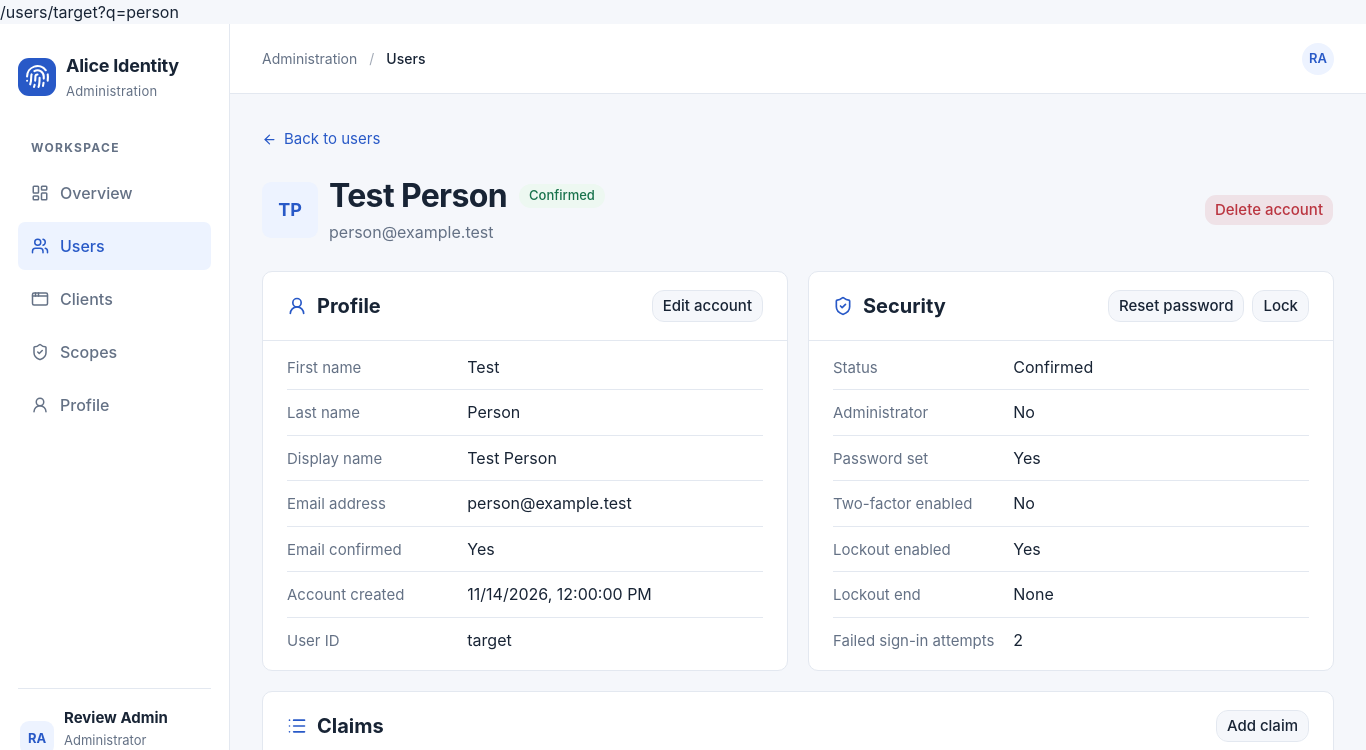
Test: administrative account operations › requires exact deletion confirmation and returns to the preserved directory query
Click the button "Delete account".
click(1269, 210)  # box [1204,194,1334,226]
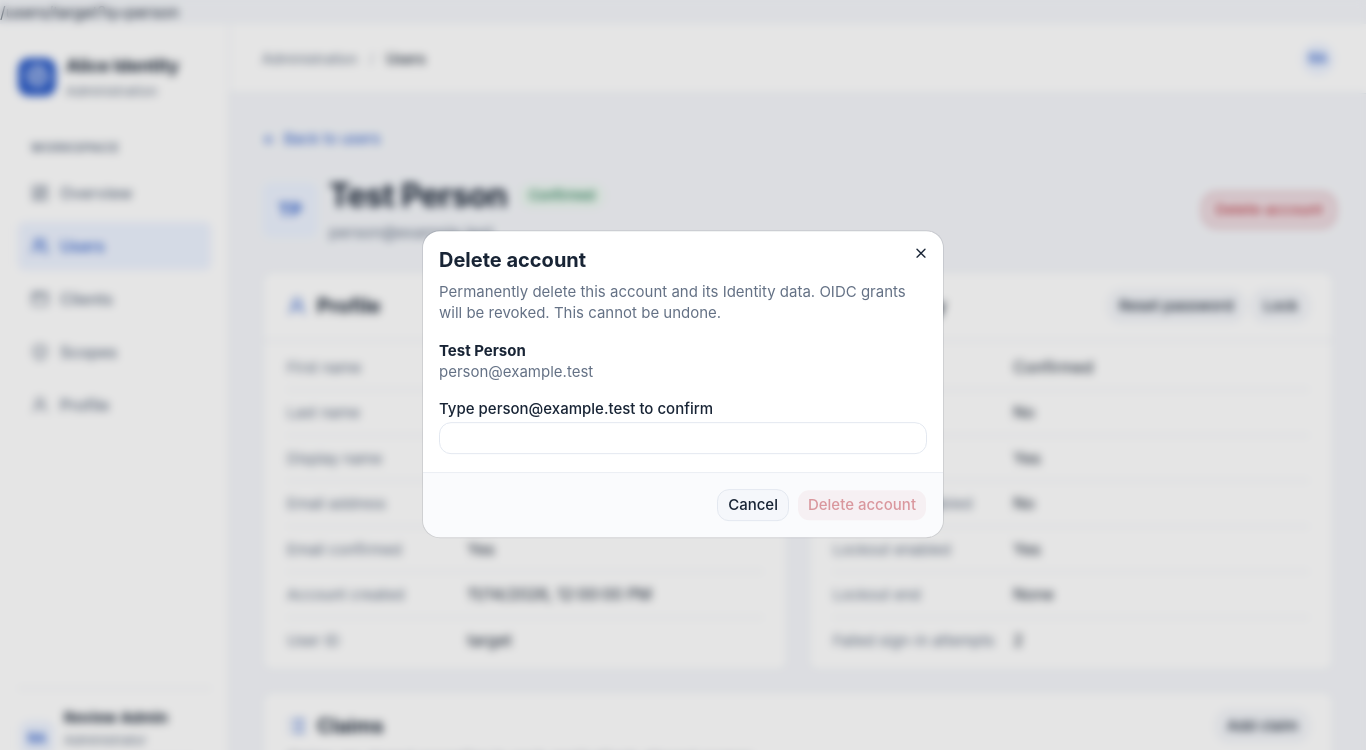
Expected: the button "Delete account" is disabled, [797,489,927,521]
Type "wrong" into the field.
click(683, 438); type("wrong")  # box [439,422,927,454]
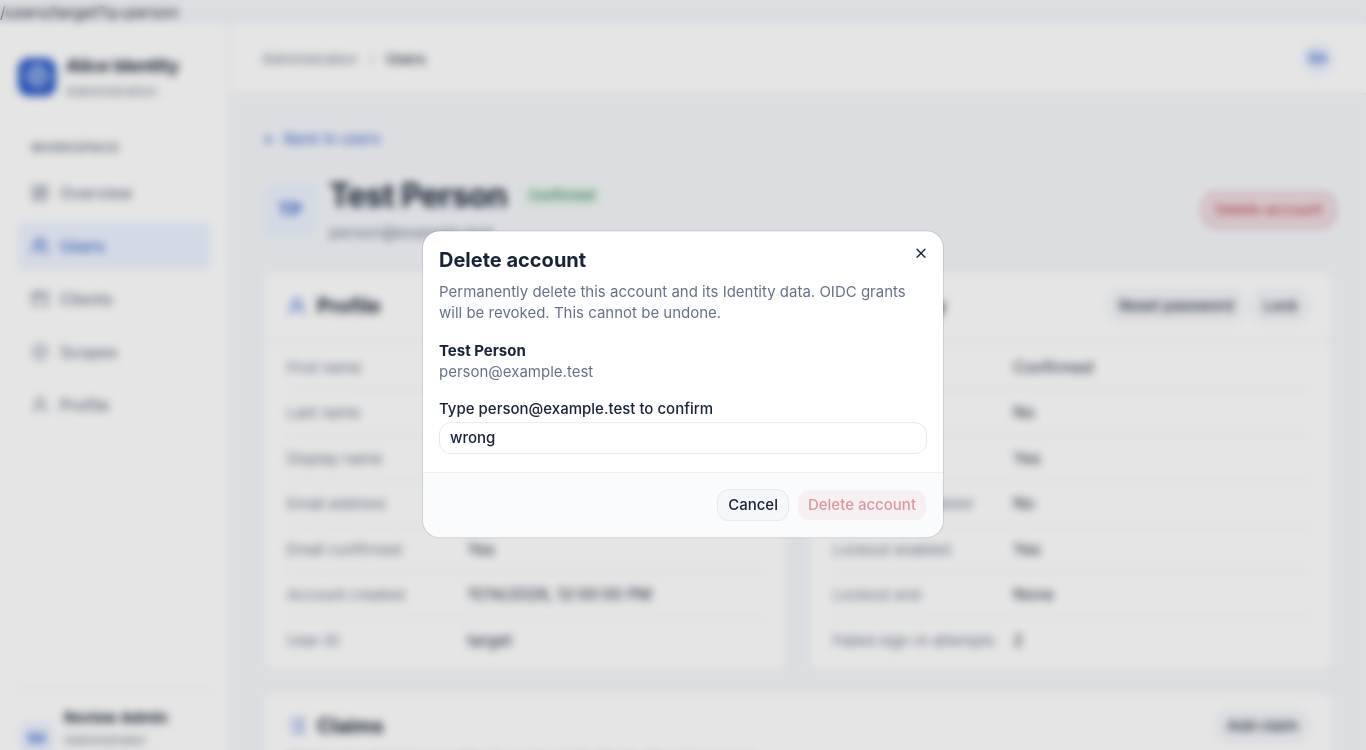
Expected: the button "Delete account" is disabled, [797,489,927,521]
Replace the text in the field with "person@example.test" at coordinates (683, 438), box [439,422,927,454]
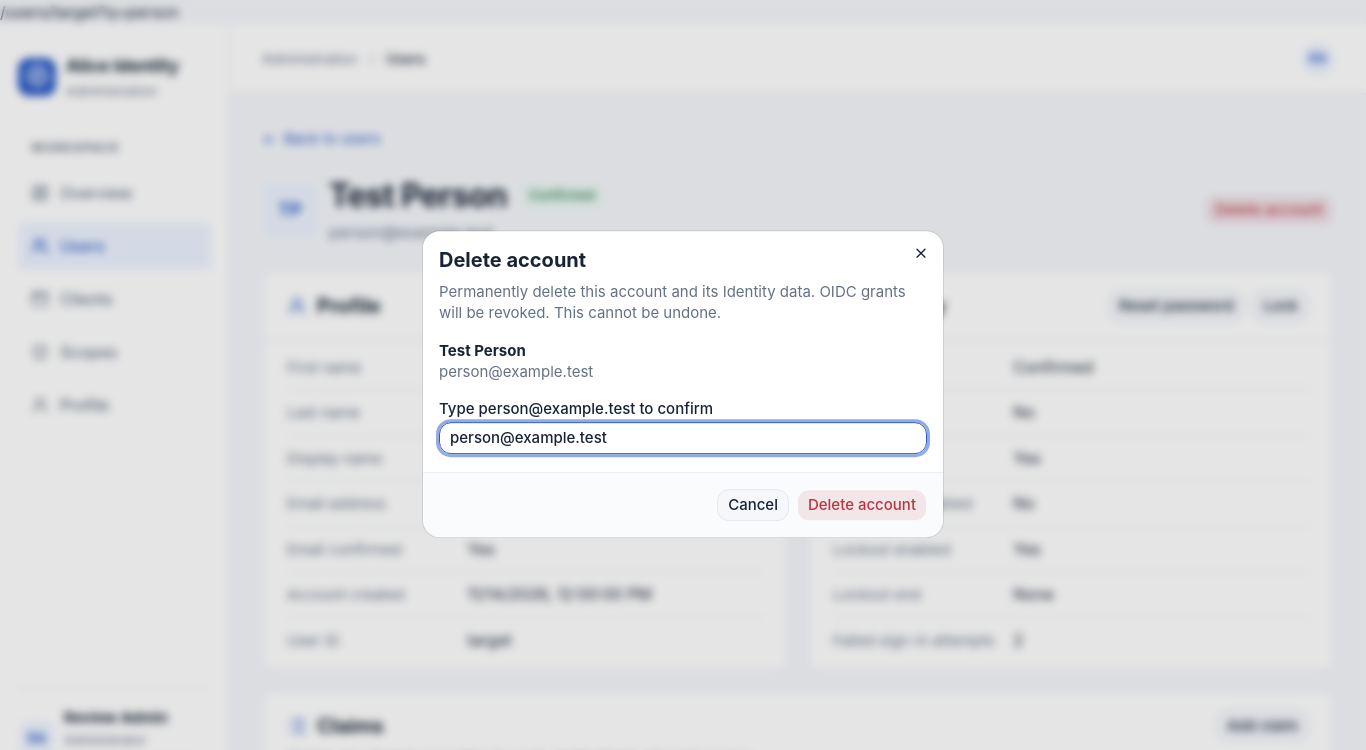
Click the button "Delete account".
click(862, 505)  # box [797,489,927,521]
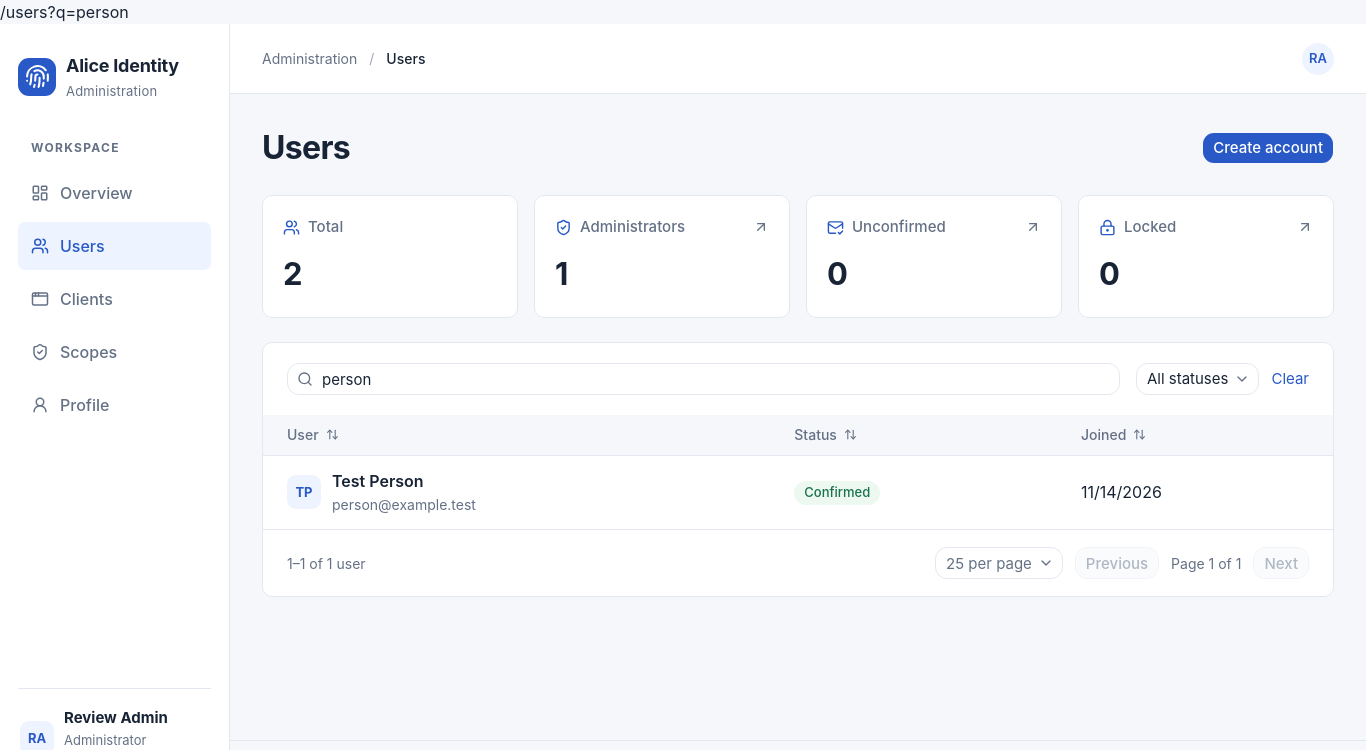
Expected: the table named "Users" is shown, [263,415,1333,529]
Expected: the text with test id "url" reads "/users?q=person", [0,2,129,22]
